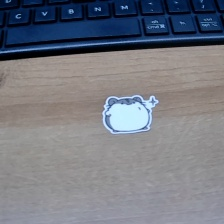mouse: (102, 94, 160, 136)
